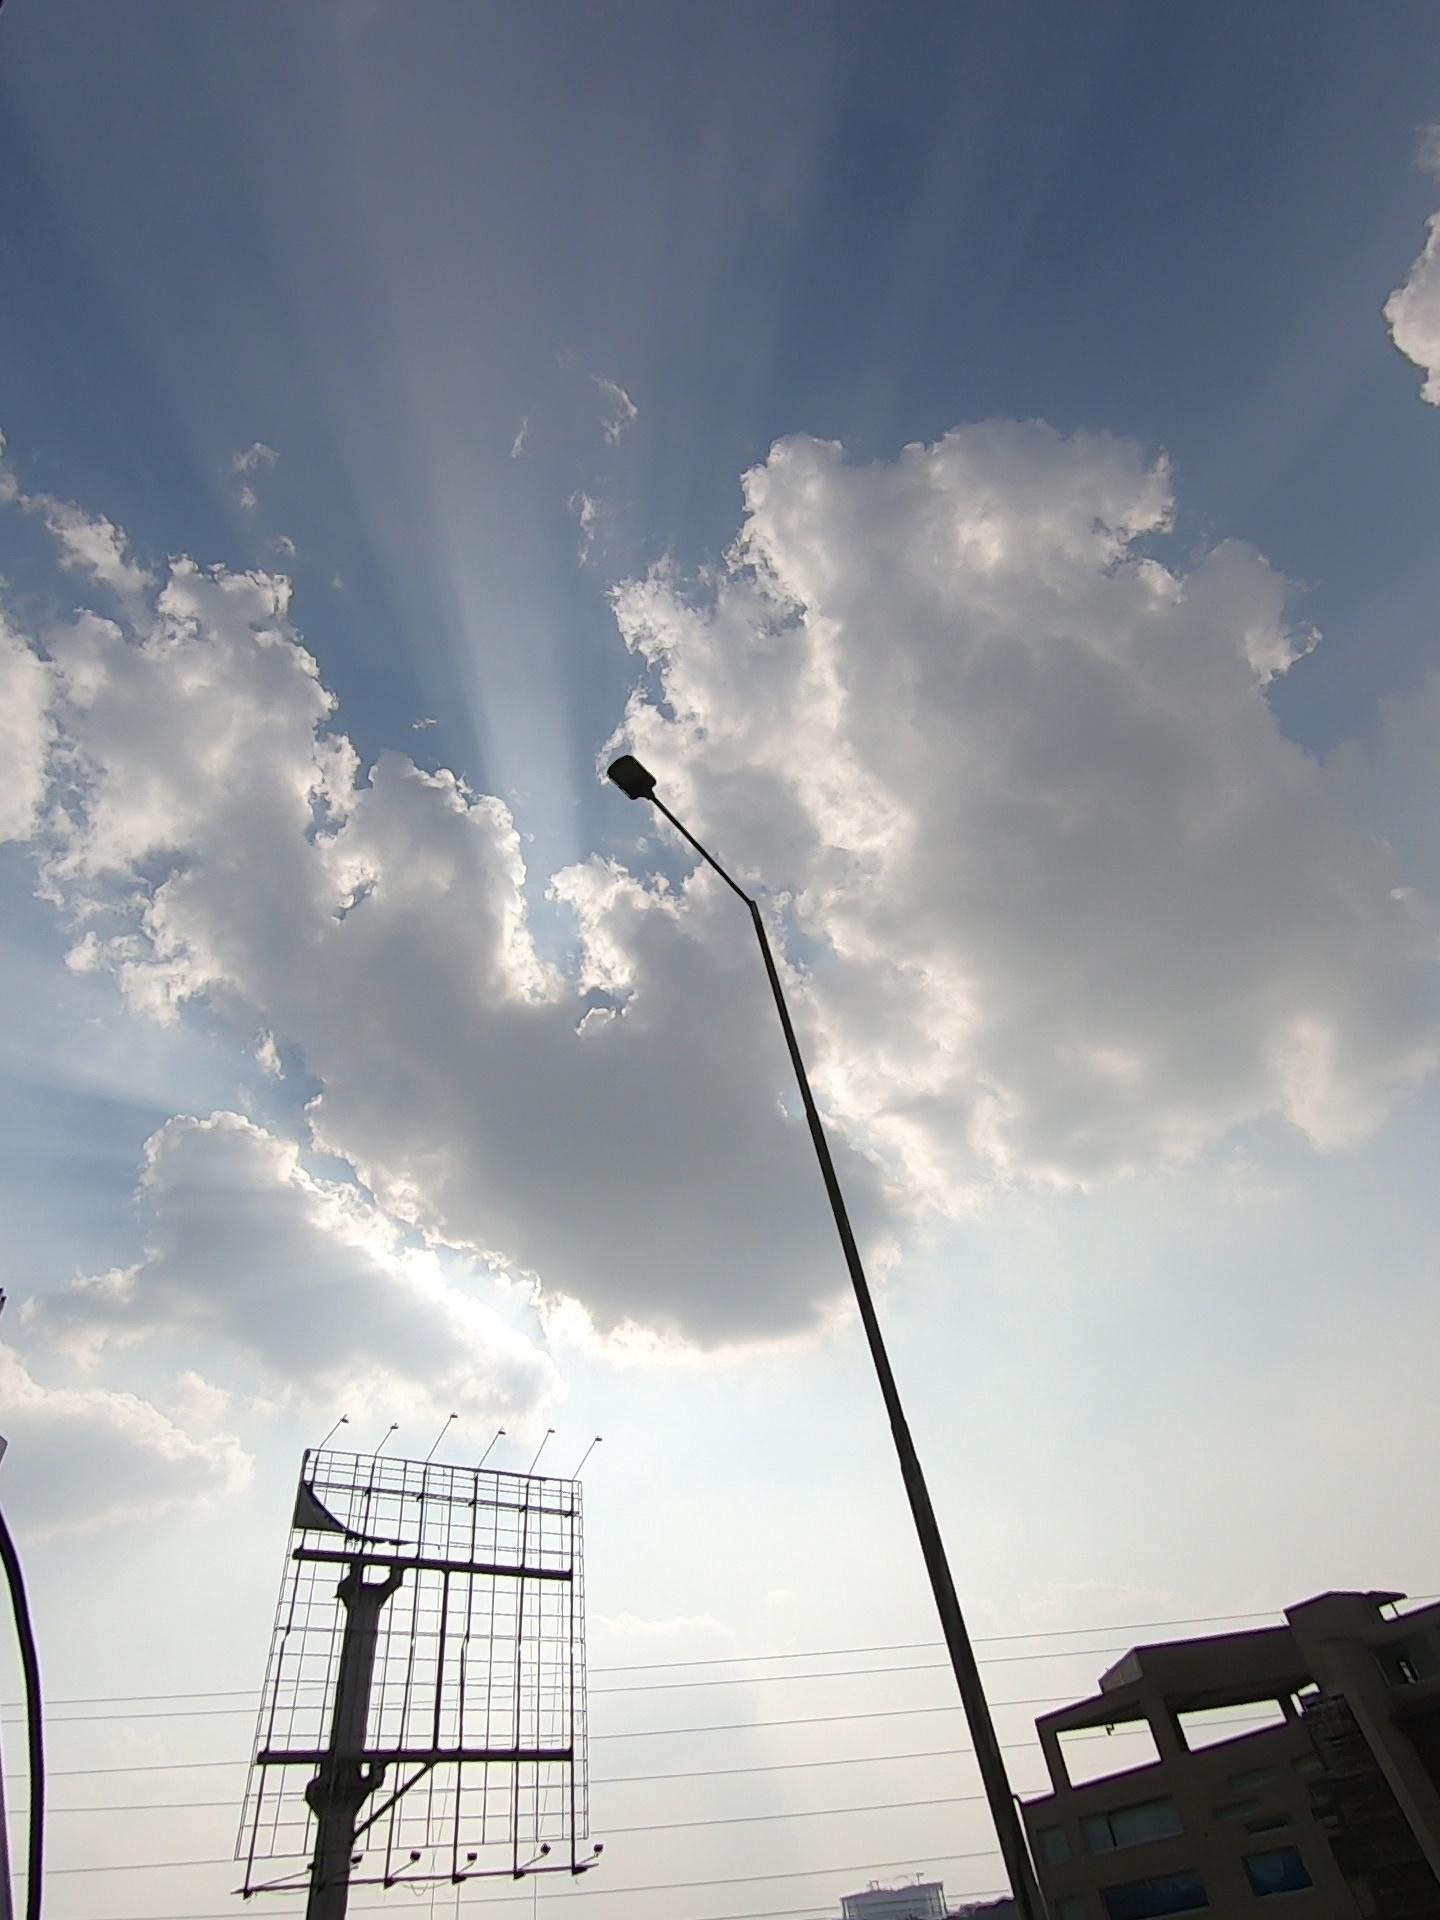off: (560, 680, 827, 960)
